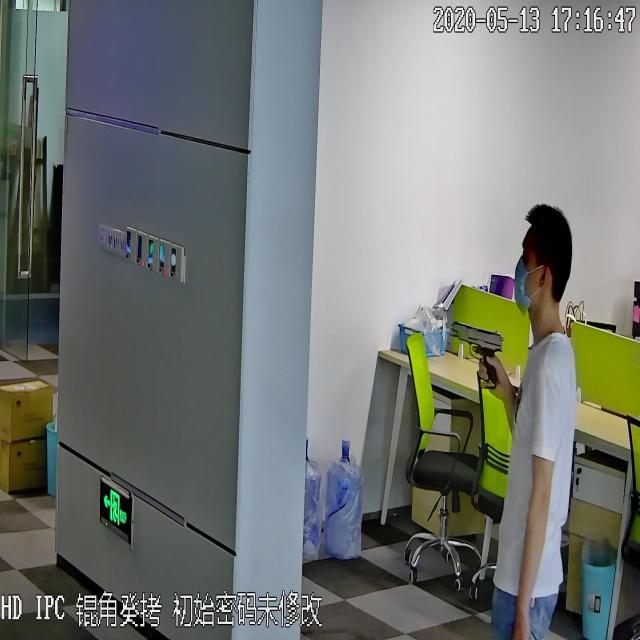gun: (449, 313, 506, 392)
